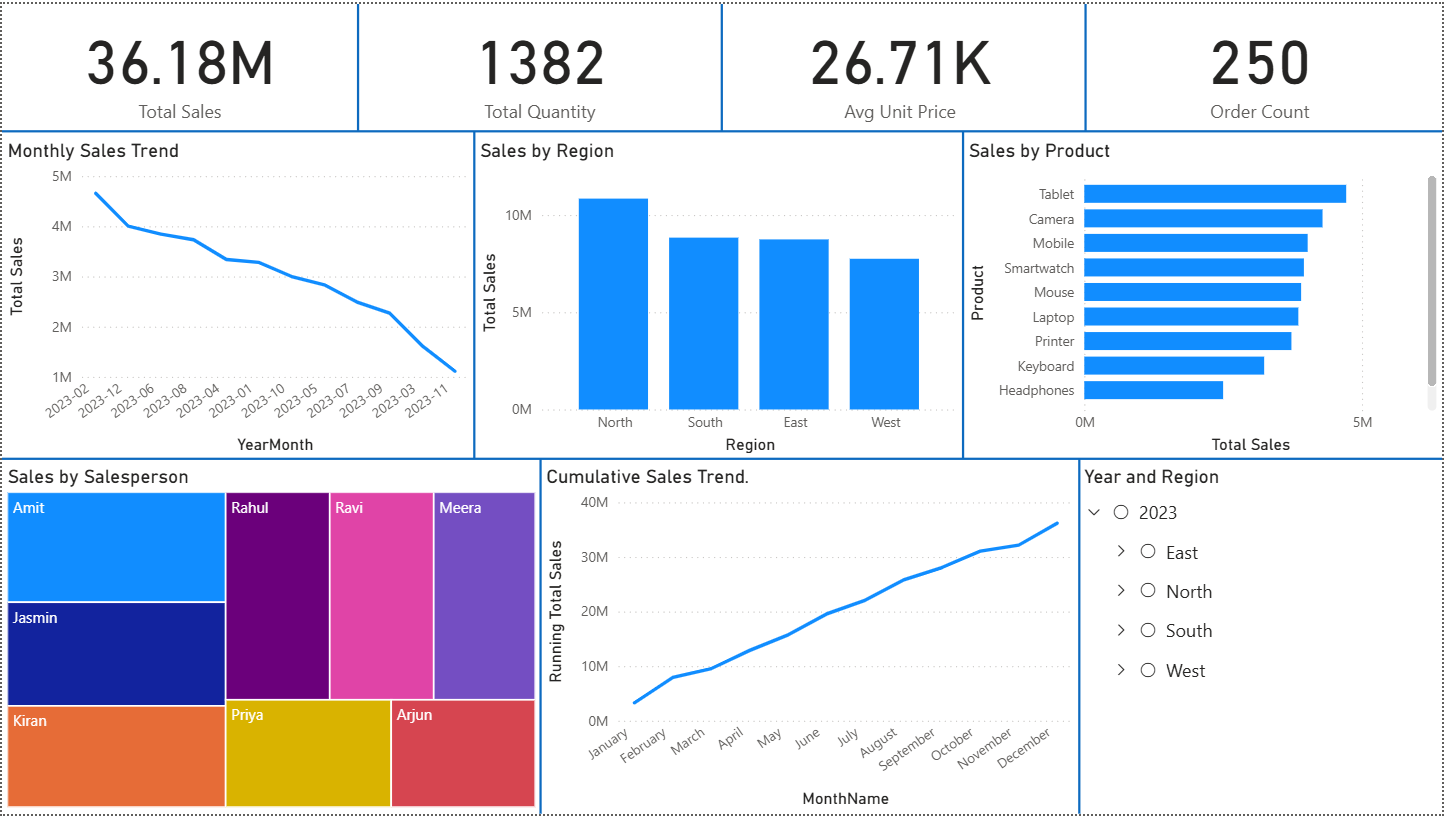

Layout of this report page (visuals, bound fields, positions):
{"tool":"powerbi","page":{"name":"Sales Performance Dashboard","canvas":[1280,720],"ordinal":0},"visuals":[{"type":"card","fields":{"Values":["MeasureTable.Total Sales"]},"box":[0,0,316.9,113],"z":0},{"type":"card","fields":{"Values":["MeasureTable.Total Quantity"]},"box":[316.9,0,323.4,113],"z":1000},{"type":"card","fields":{"Values":["MeasureTable.Avg Unit Price"]},"box":[640.3,0,316.9,113],"z":2000},{"type":"card","fields":{"Values":["MeasureTable.Order Count"]},"box":[957.1,0,323.4,113],"z":3000},{"type":"lineChart","title":"Monthly Sales Trend","fields":{"Category":["Date.YearMonth"],"Y":["MeasureTable.Total Sales"]},"box":[0,119.5,419.5,284.4],"z":4000},{"type":"columnChart","title":"Sales by Region","fields":{"Category":["sales.Region"],"Y":["MeasureTable.Total Sales"]},"box":[419.5,119.5,435.1,284.4],"z":5000},{"type":"barChart","title":"Sales by Product","fields":{"Category":["sales.Product"],"Y":["MeasureTable.Total Sales"]},"box":[854.5,119.5,426,284.4],"z":6000},{"type":"treemap","title":"Sales by Salesperson","fields":{"Group":["sales.Salesperson"],"Values":["MeasureTable.Total Sales"]},"box":[0,410.4,479.2,309.1],"z":7000},{"type":"lineChart","title":"Cumulative Sales Trend.","fields":{"Category":["Date.MonthName"],"Y":["MeasureTable.Running Total Sales"]},"box":[479.2,410.4,477.9,309.1],"z":8000},{"type":"listSlicer","fields":{"Values":["Date.Year","sales.Region","sales.Product","sales.Salesperson"]},"box":[957.1,410.4,323.4,309.1],"z":9000},{"type":"shape","box":[0,397.4,1280.5,13],"z":10000},{"type":"shape","box":[0,106.5,1280.5,13],"z":11000},{"type":"shape","box":[472.7,403.9,13,315.6],"z":12000},{"type":"shape","box":[950.6,403.9,13,315.6],"z":13000},{"type":"shape","box":[848.1,113,13,290.9],"z":14000},{"type":"shape","box":[413,113,13,290.9],"z":15000},{"type":"shape","box":[310.4,0,13,113],"z":16000},{"type":"shape","box":[633.8,0,13,113],"z":17000},{"type":"shape","box":[957.1,0,13,113],"z":17001}]}

Visuals, with their boxes in screenshot pixels (x1, y1, x2, y2), scaled from the page's 1280x720 canvas onto the 1445x816 screenshot:
card - MeasureTable.Total Sales: <bbox>0, 0, 358, 128</bbox>
card - MeasureTable.Total Quantity: <bbox>358, 0, 723, 128</bbox>
card - MeasureTable.Avg Unit Price: <bbox>723, 0, 1081, 128</bbox>
card - MeasureTable.Order Count: <bbox>1080, 0, 1444, 128</bbox>
"Monthly Sales Trend" lineChart: <bbox>0, 135, 474, 458</bbox>
"Sales by Region" columnChart: <bbox>474, 135, 965, 458</bbox>
"Sales by Product" barChart: <bbox>965, 135, 1444, 458</bbox>
"Sales by Salesperson" treemap: <bbox>0, 465, 541, 815</bbox>
"Cumulative Sales Trend." lineChart: <bbox>541, 465, 1080, 815</bbox>
listSlicer - Date.Year x sales.Region: <bbox>1080, 465, 1444, 815</bbox>
shape: <bbox>0, 450, 1444, 465</bbox>
shape: <bbox>0, 121, 1444, 135</bbox>
shape: <bbox>534, 458, 548, 815</bbox>
shape: <bbox>1073, 458, 1088, 815</bbox>
shape: <bbox>957, 128, 972, 458</bbox>
shape: <bbox>466, 128, 481, 458</bbox>
shape: <bbox>350, 0, 365, 128</bbox>
shape: <bbox>716, 0, 730, 128</bbox>
shape: <bbox>1080, 0, 1095, 128</bbox>
